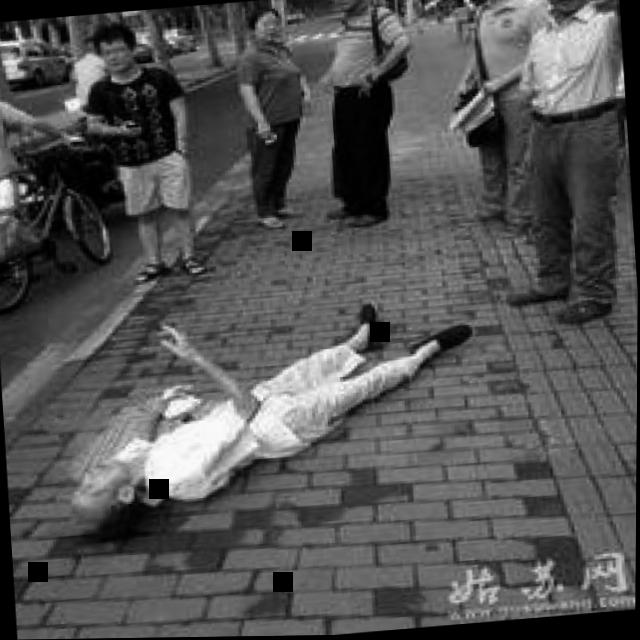Fall-Detected: (31, 276, 506, 552)
